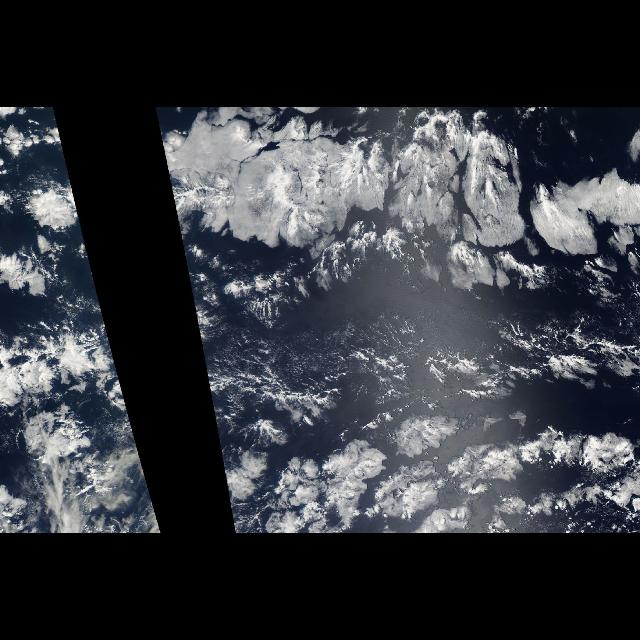Flower: (154, 108, 628, 312), (196, 321, 640, 533), (0, 107, 104, 315)
Sugar: (218, 314, 420, 444)
